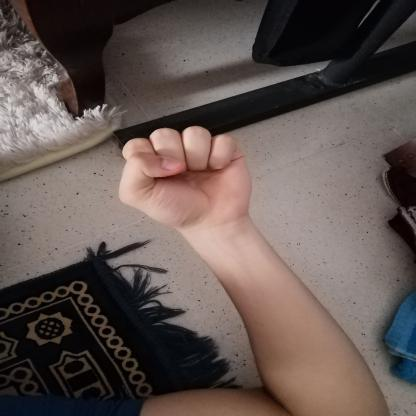SAD: (101, 117, 268, 244)
